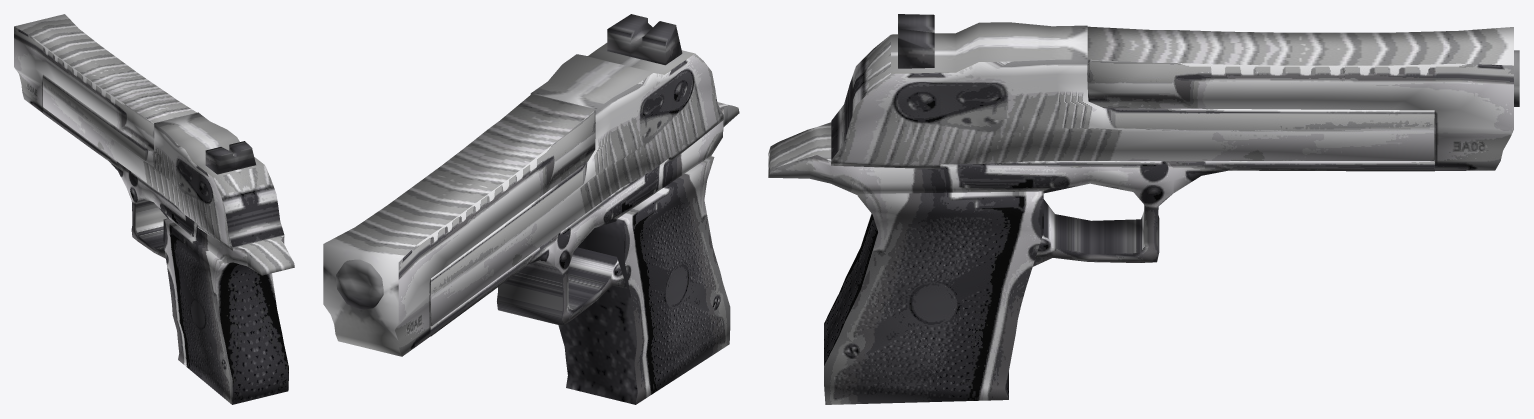
The model's file is deagle.glb.
The picture shows the model from 3 angles, left to right: view 1: azimuth 30°, elevation 25°; view 2: azimuth 150°, elevation 25°; view 3: azimuth 270°, elevation 25°; orthographic projection. The views are drawn at different scales.
Visible parts, largest first — view 1: Cylinder; view 2: Cylinder; view 3: Cylinder.
Part boxes in pixels (box(x1,y1,x2,y2)): Cylinder: box(14, 14, 294, 404); Cylinder: box(323, 14, 739, 404); Cylinder: box(768, 14, 1519, 404).
Size of the model in its own units: 0.3919 by 1.53 by 2.91.
1 material, 1 textured.
